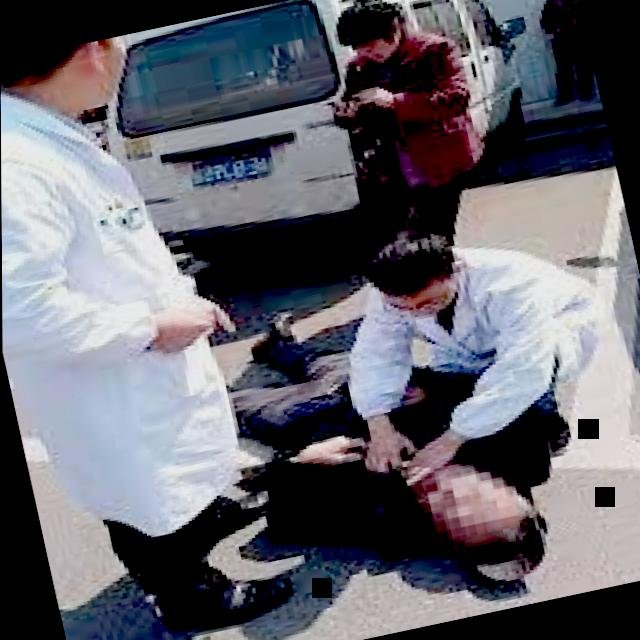Fall-Detected: (190, 242, 600, 622)
